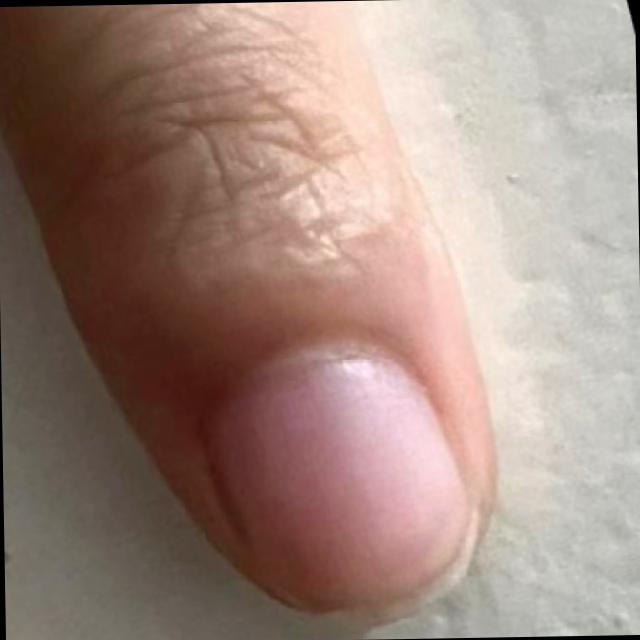Nail: (203, 353, 474, 601)
